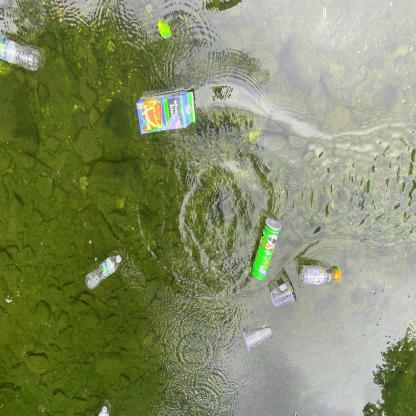Metal: (246, 214, 284, 285)
Plastic: (0, 30, 44, 80), (80, 249, 124, 294), (235, 321, 279, 354), (266, 274, 301, 310), (296, 262, 344, 288), (97, 400, 115, 416)
